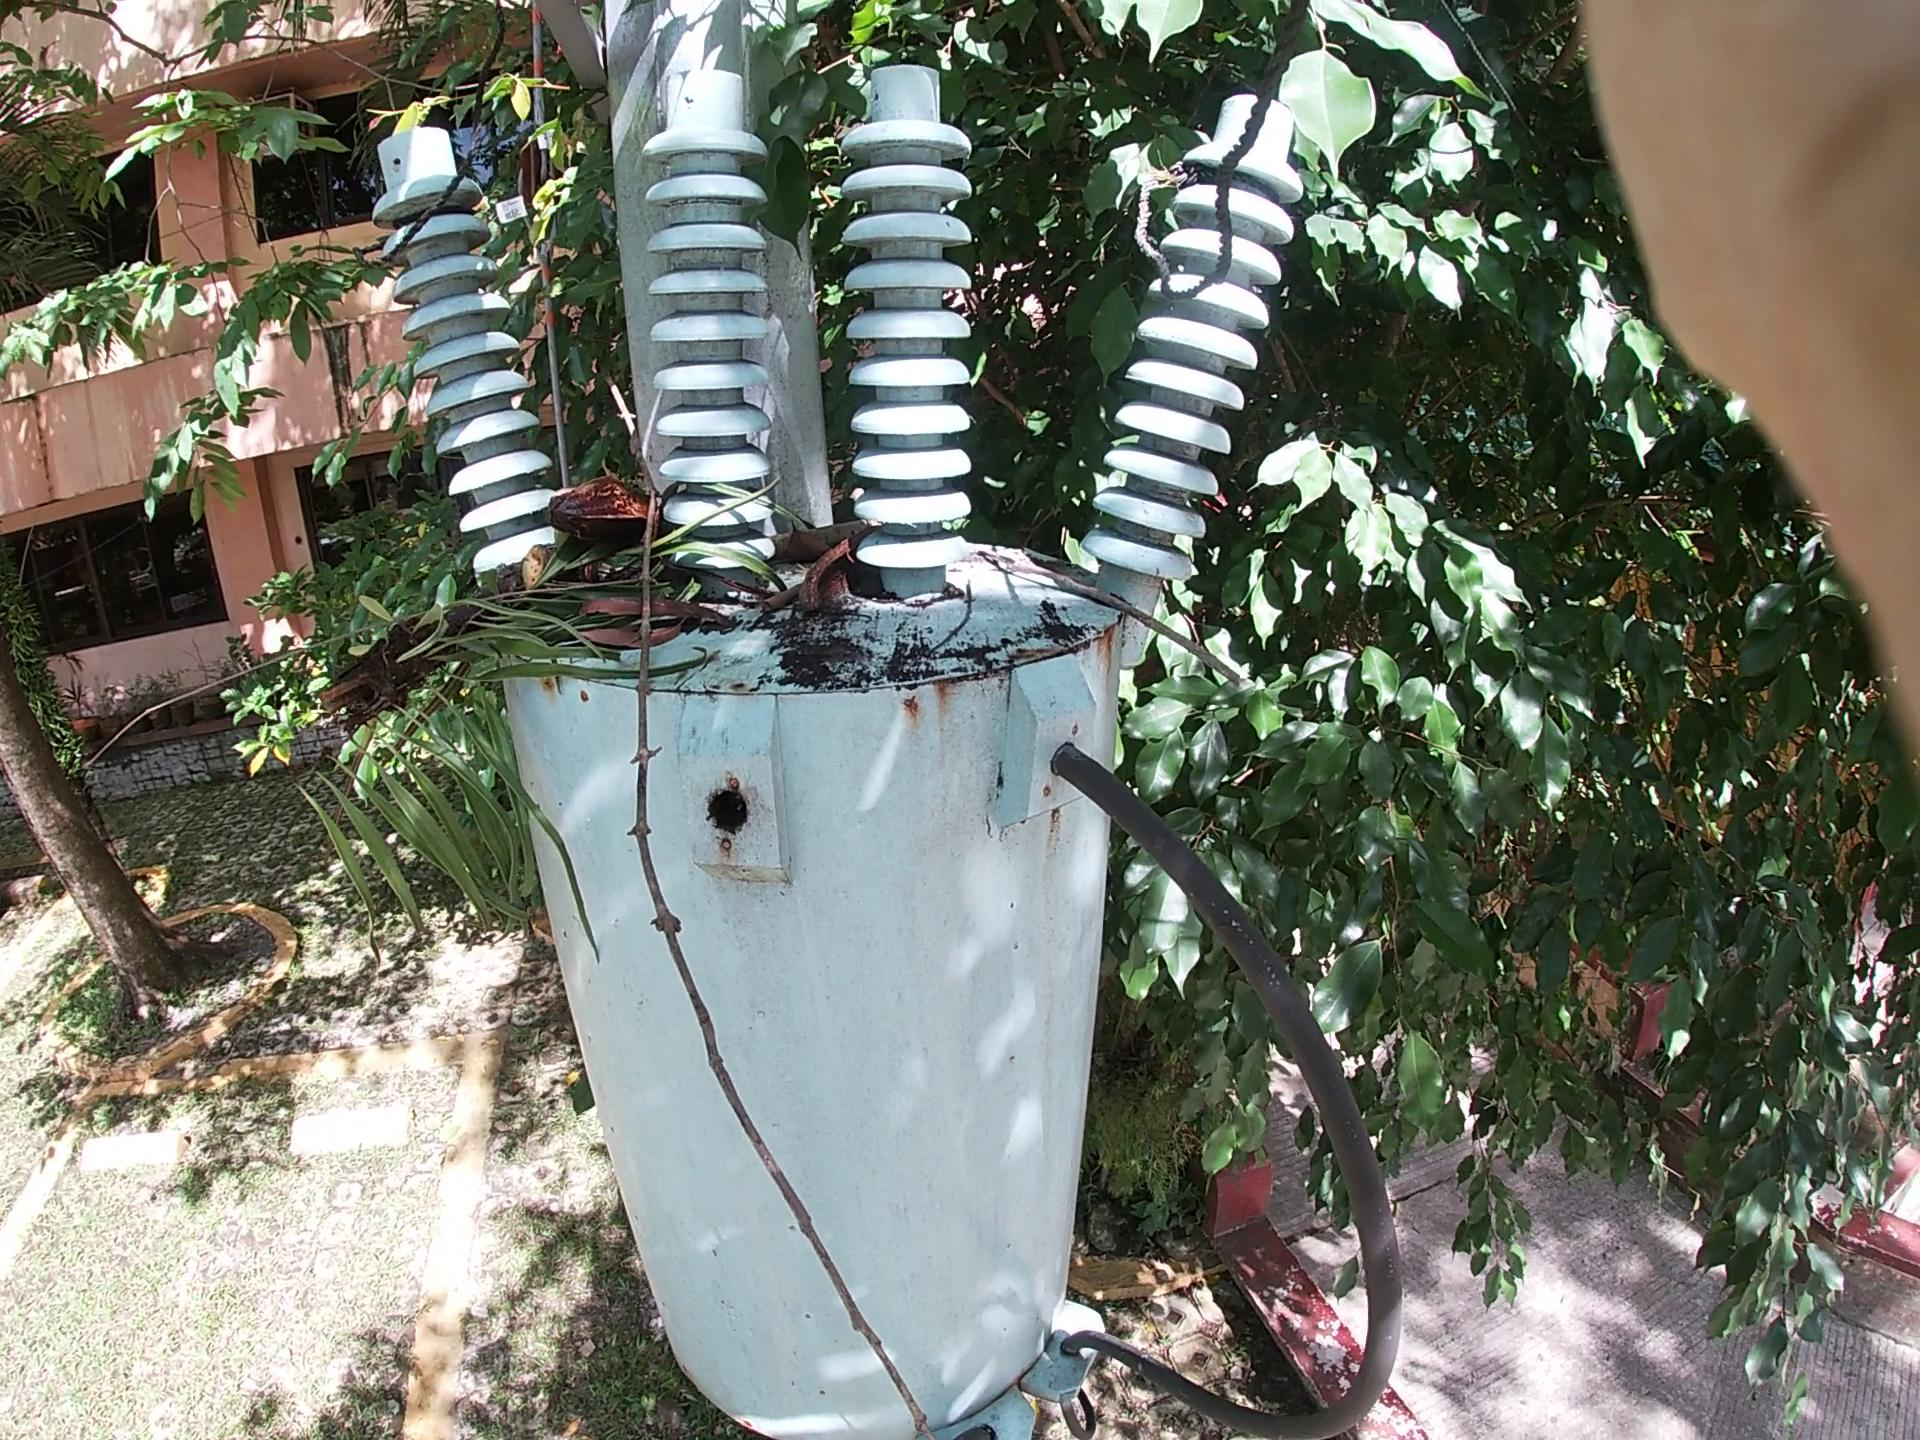branch with leaves: (194, 331, 646, 933)
mahogany fruit: (565, 466, 732, 625), (779, 510, 884, 629)
tree branch: (519, 399, 986, 1417), (903, 517, 1379, 765), (736, 526, 853, 666)
